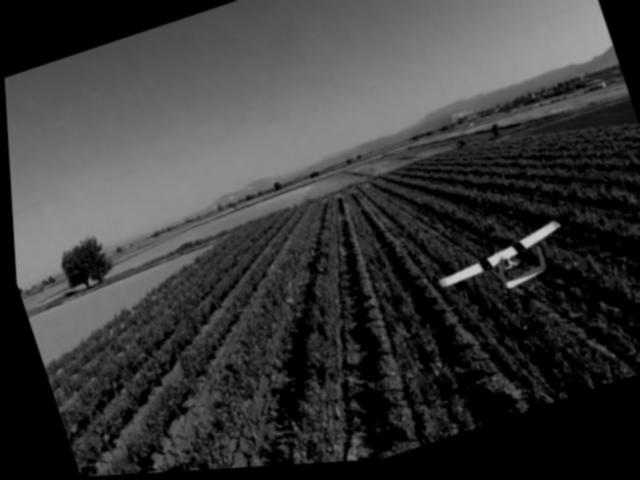hedef: (424, 219, 577, 321)
